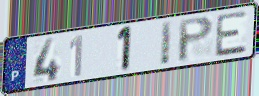1: (115, 24, 134, 73), (68, 33, 85, 79)
4: (31, 36, 64, 84)
E: (213, 9, 249, 59)
I: (159, 19, 174, 68)
P: (177, 15, 215, 65)
